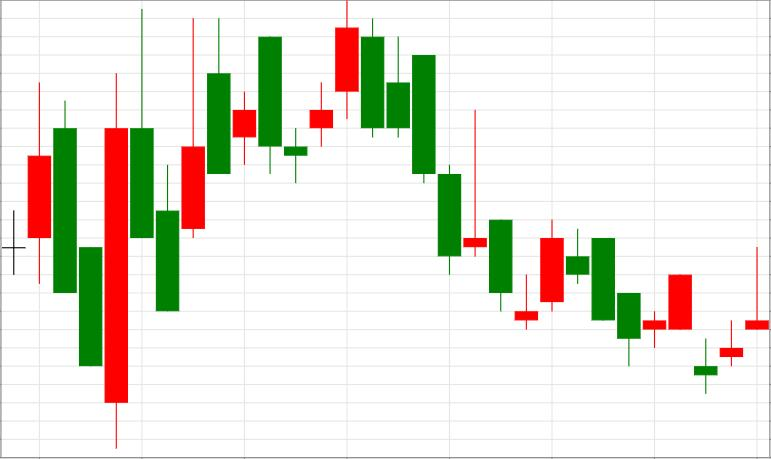morning_star_rise: (361, 17, 563, 329)
